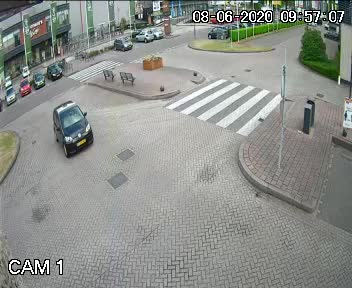car: (43, 99, 100, 154)
